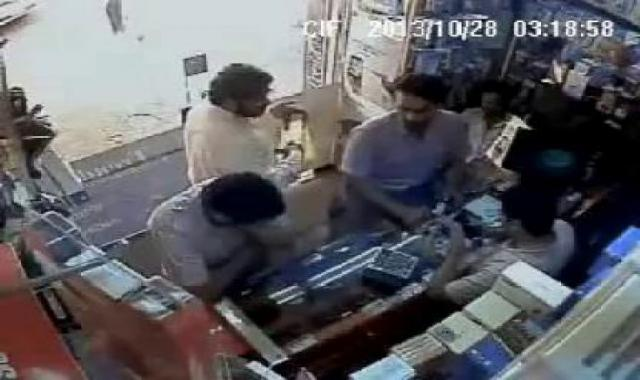no_hairnet: (191, 167, 297, 218), (212, 57, 288, 114), (389, 71, 457, 120)
